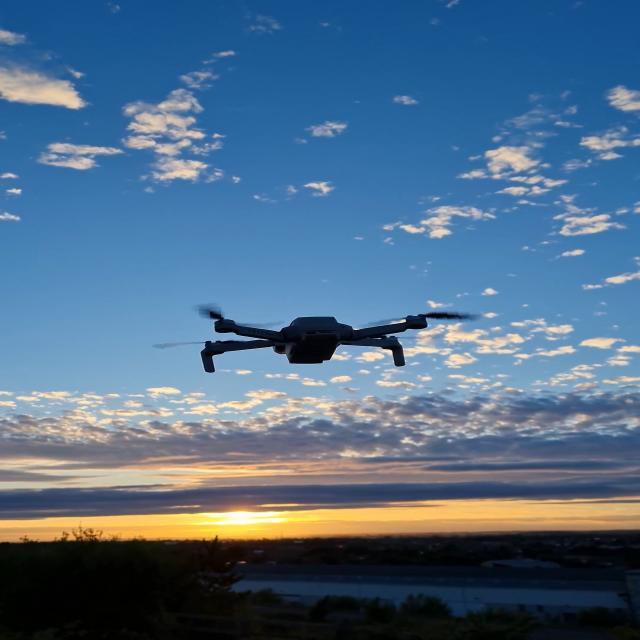Drone: (162, 312, 415, 378)
